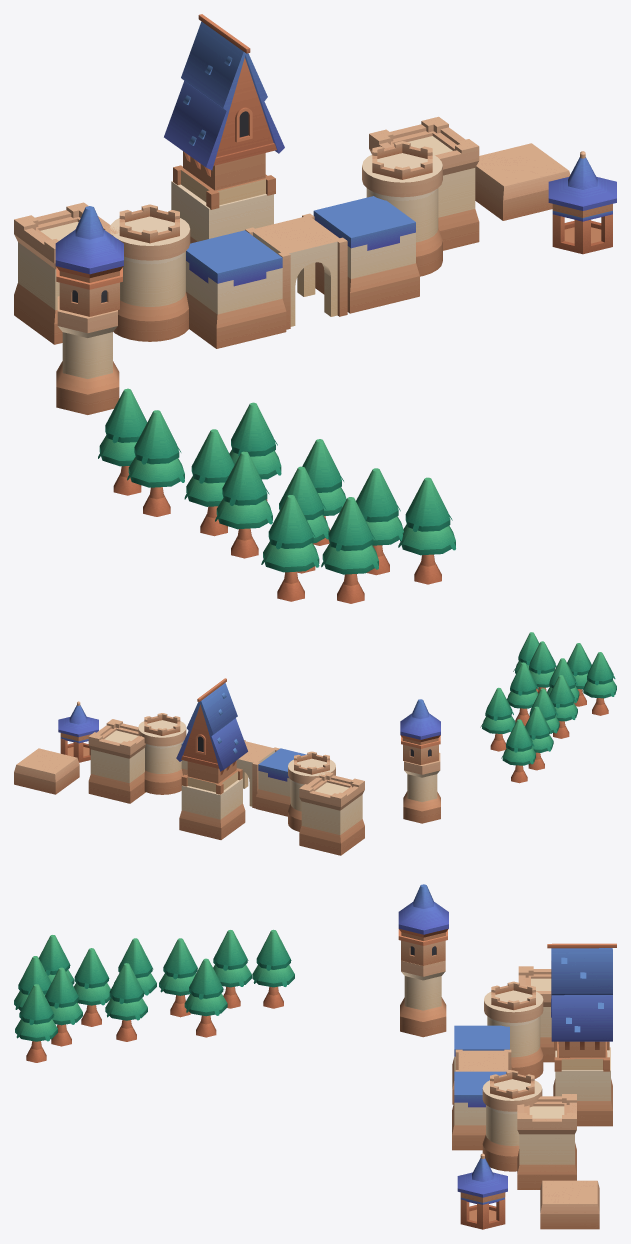
File: Castle.glb
3 views of the same model, one above another, from view 1: azimuth 30°, elevation 25°; view 2: azimuth 150°, elevation 25°; view 3: azimuth 270°, elevation 25° (orthographic). The views are drawn at different scales.
Visible parts, largest first — view 1: tower-slant-roof, tower-square-base-color, tower-square-base-color.001, tower-base, tower-square-arch, tower-square.001, tower-hexagon-base, tower-square, tower-square-base-border, tower-base.001, tree-small.005, tree-small.006 (+16 smaller); view 2: tower-slant-roof, tower-square, tower-square.001, tower-square-base, tower-base.001, tower-square-base-border, tower-hexagon-base, tower-square-base-color, tree-small.009, tree-small.005, tower-base, tower-hexagon-roof (+15 smaller); view 3: tower-slant-roof, tower-square.001, tower-base.001, tower-base, tower-hexagon-base, tower-square-base-border, tower-square-base-color.001, tower-square-base, tree-small.010, tree-small.008, tree-small.007, tree-small.009 (+16 smaller).
Boxes of the visible parts, x1,y1,x2,y2 form: tower-slant-roof: (164,14,284,209); tower-square-base-color: (186,230,286,348); tower-square-base-color.001: (313,196,419,313); tower-base: (109,216,190,341); tower-square-arch: (245,213,347,329); tower-square.001: (369,116,479,250); tower-hexagon-base: (56,296,119,414); tower-square: (14,202,119,344); tower-square-base-border: (475,143,570,220); tower-base.001: (362,153,442,276); tree-small.005: (261,495,319,601); tree-small.006: (127,410,184,516); tower-slant-roof: (176,678,247,794); tower-square: (299,771,364,855); tower-square.001: (88,719,145,803); tower-square-base: (179,778,245,839); tower-base.001: (138,720,186,794); tower-square-base-border: (14,748,79,794); tower-hexagon-base: (403,752,440,823); tower-square-base-color: (256,748,306,816); tree-small.009: (501,719,535,783); tree-small.005: (582,652,616,715); tower-base: (288,758,335,831); tower-hexagon-roof: (400,699,440,744); tower-slant-roof: (547,943,616,1071); tower-square.001: (517,1094,576,1189); tower-base.001: (482,1079,542,1171); tower-base: (484,990,543,1078); tower-hexagon-base: (400,960,446,1037); tower-square-base-border: (540,1180,599,1229); tower-square-base-color.001: (452,1071,506,1150); tower-square-base: (553,1047,612,1126); tree-small.010: (15,984,57,1062); tree-small.008: (105,963,147,1041); tree-small.007: (184,958,227,1037); tree-small.009: (252,929,294,1008).
Size of what is drawn, in the model's own units: 9.4 by 3.21 by 10.12.
14 materials, 14 textured.
